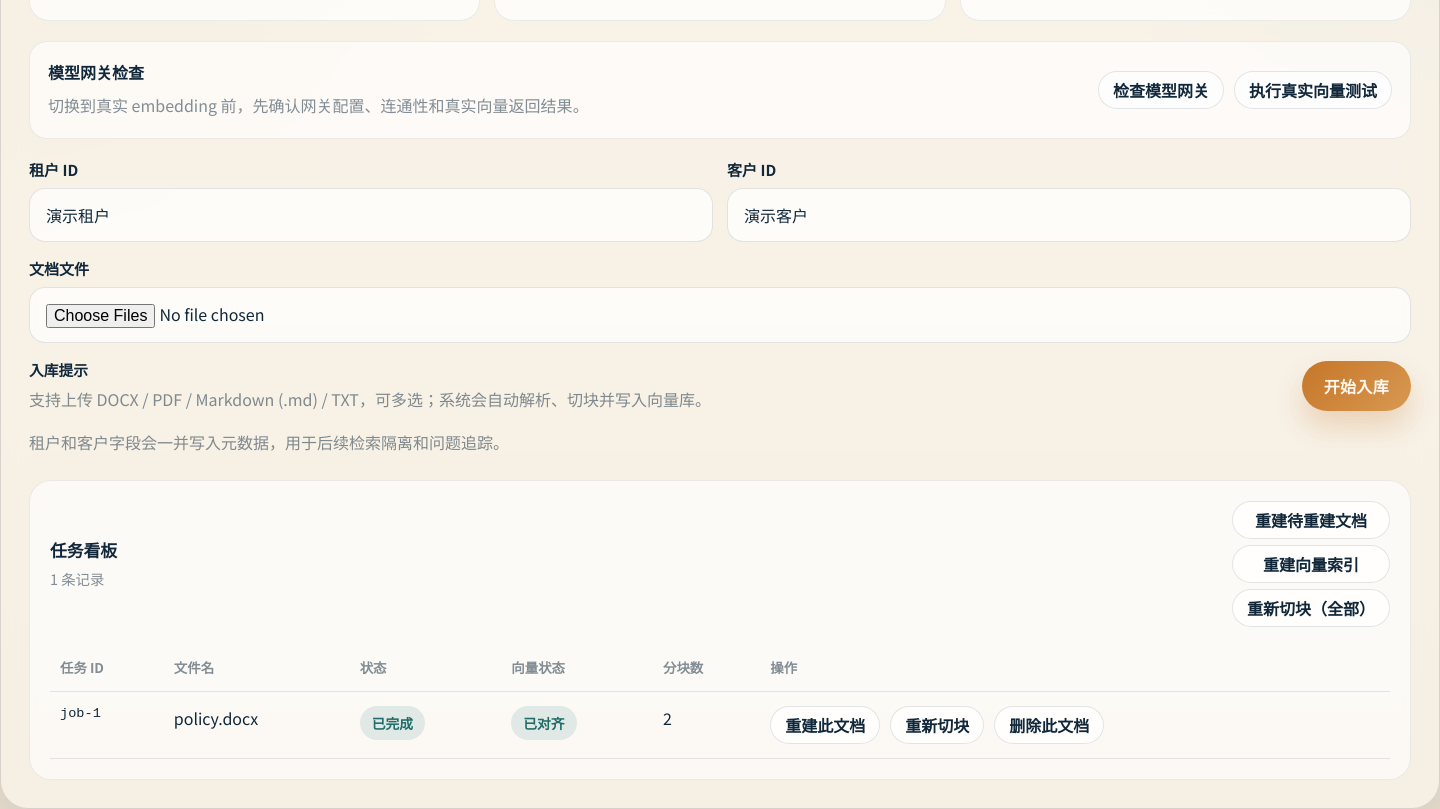
Scenario: rechunks a single document from its row action
This screenshot has width=1440, height=809.
(page scrolled)
Expected: the text "policy.docx" is shown, [164,691,350,758]
Click the button "重新切块" at (937, 725), box [890,706,984,744]
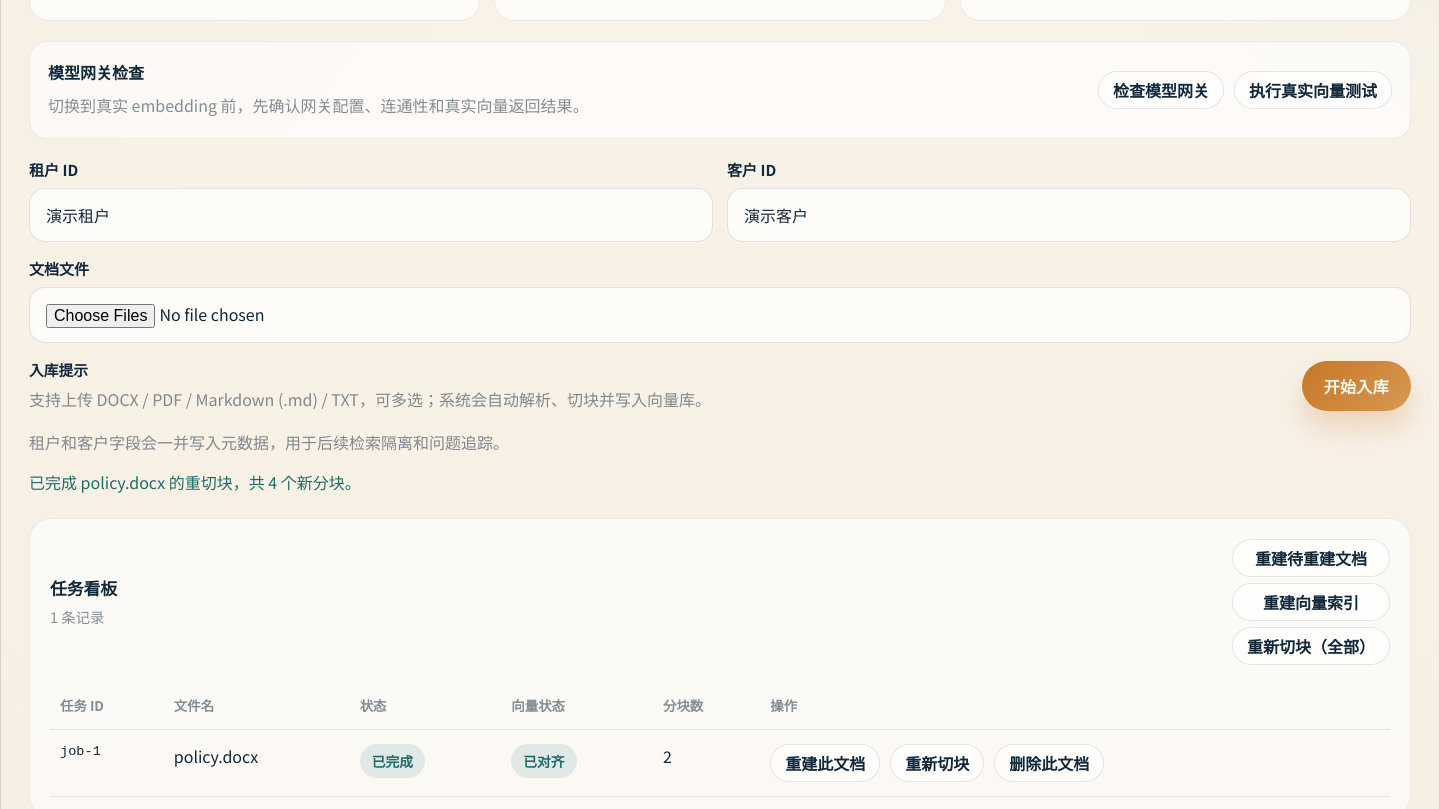
Expected: the text "已完成 policy.docx 的重切块，共 4 个新分块。" is shown, [29,470,361,494]
